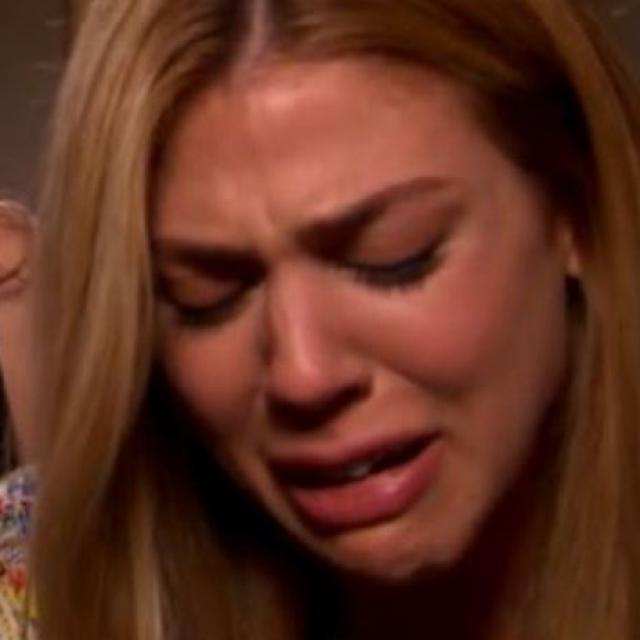Depress: (118, 59, 569, 594)
